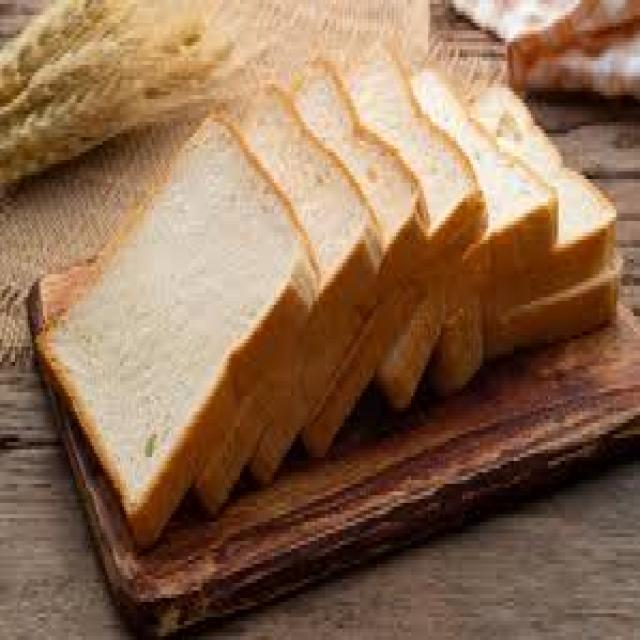Bread: (36, 120, 314, 544), (236, 89, 380, 415), (471, 87, 616, 321), (295, 65, 424, 299), (347, 58, 486, 270), (431, 80, 556, 309)
